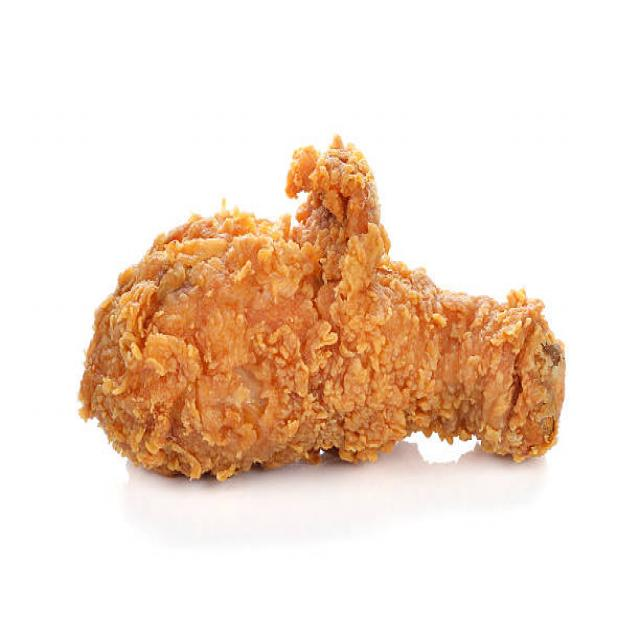Chicken: (69, 210, 578, 480)
